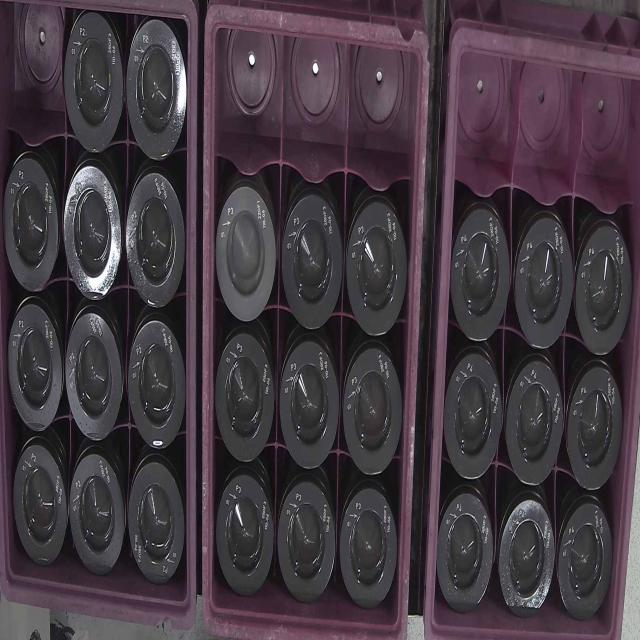P2: (125, 173, 186, 321), (124, 20, 185, 163), (61, 10, 121, 155), (62, 314, 123, 456), (67, 453, 129, 590), (125, 466, 188, 600), (1, 147, 58, 295), (62, 163, 122, 303), (126, 320, 186, 459), (6, 301, 63, 437), (8, 444, 66, 572)
P3: (342, 195, 410, 335), (213, 331, 279, 465), (275, 477, 341, 609), (213, 180, 274, 320), (278, 338, 342, 469), (282, 194, 342, 330), (214, 472, 276, 602), (342, 344, 402, 476), (339, 484, 398, 618)
P4: (452, 201, 512, 347), (444, 352, 505, 493), (575, 218, 634, 363), (515, 212, 575, 348), (436, 490, 496, 622), (506, 356, 563, 493), (567, 363, 625, 497), (560, 506, 618, 628), (501, 498, 557, 622)
